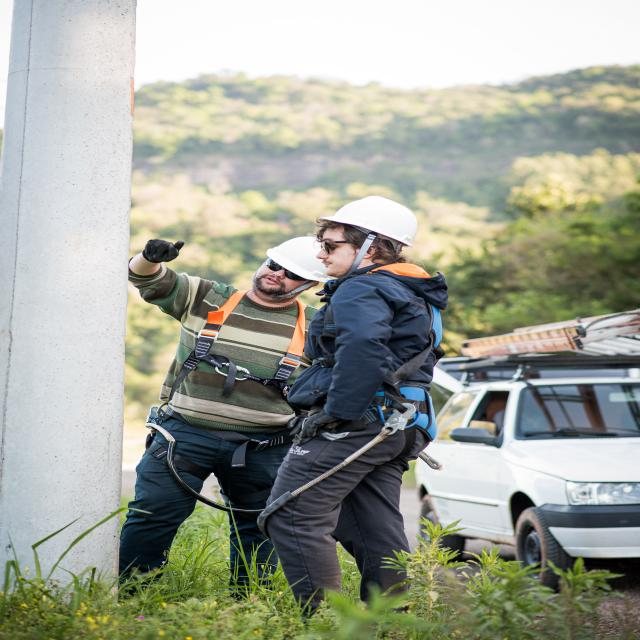capacete: (316, 193, 422, 246), (263, 232, 337, 287)
corda de vida: (150, 286, 323, 480)
luva: (301, 409, 347, 444), (138, 235, 186, 265)
